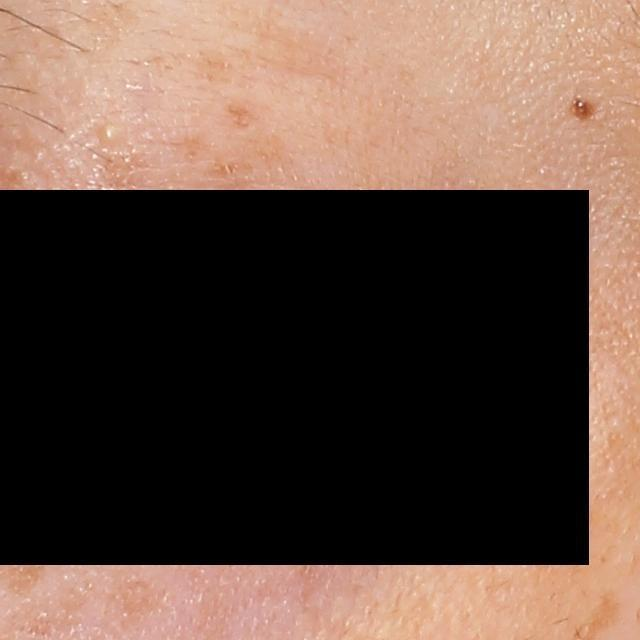comedo: (92, 120, 127, 152)
melasma: (160, 134, 259, 187), (97, 149, 147, 196), (223, 103, 259, 130)
nevus: (571, 92, 597, 123)
